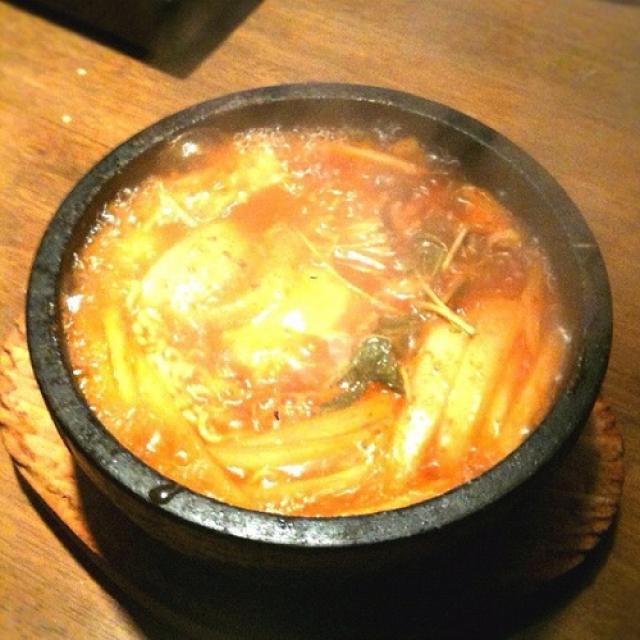汤锅炖物: (55, 60, 602, 572)
